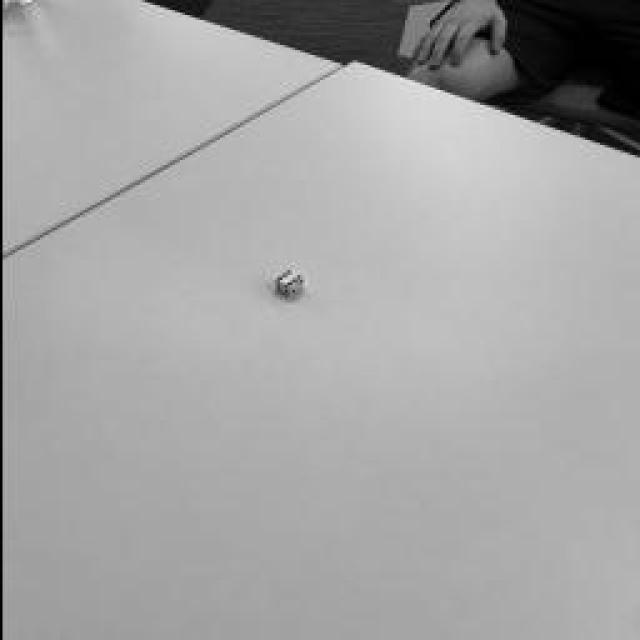dice_6: (274, 270, 301, 285)
